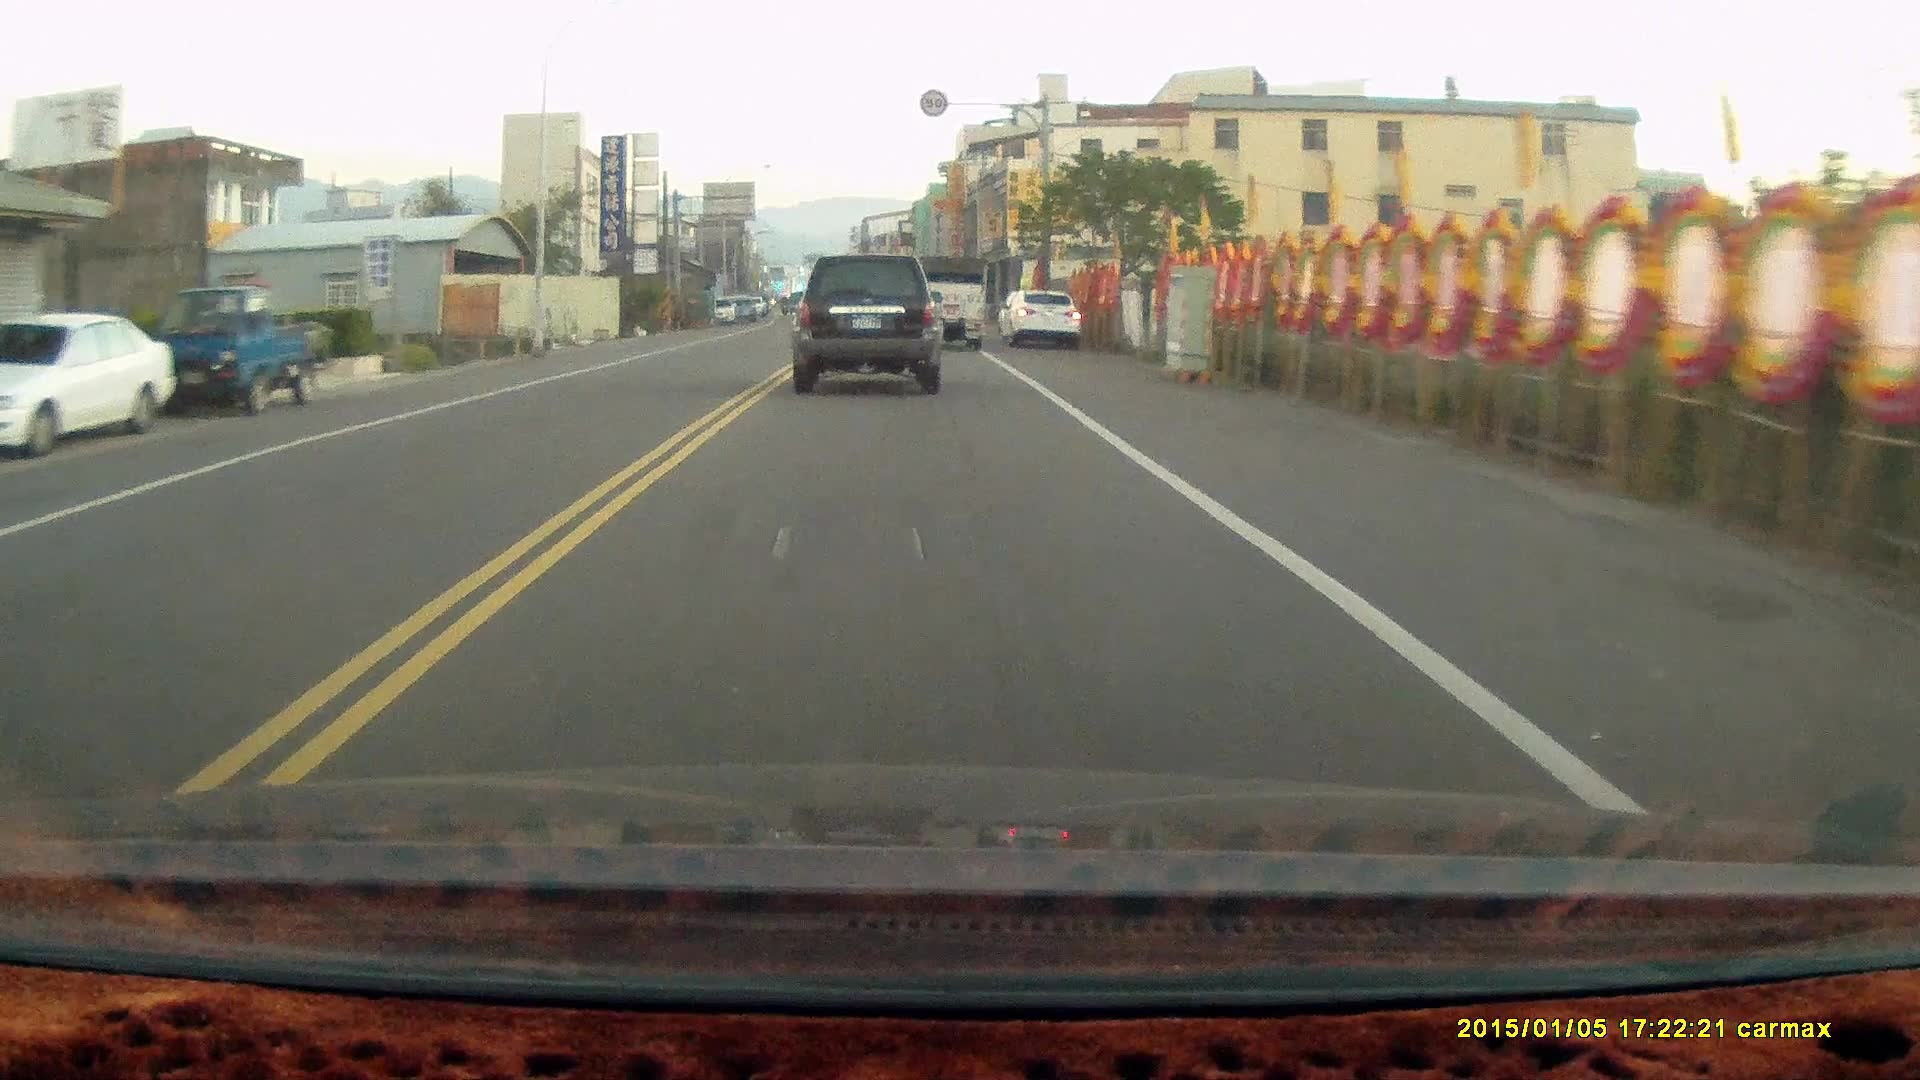vehicle: (144, 284, 328, 419), (1, 309, 175, 448), (793, 257, 944, 400), (913, 252, 990, 349), (1004, 286, 1084, 349)
